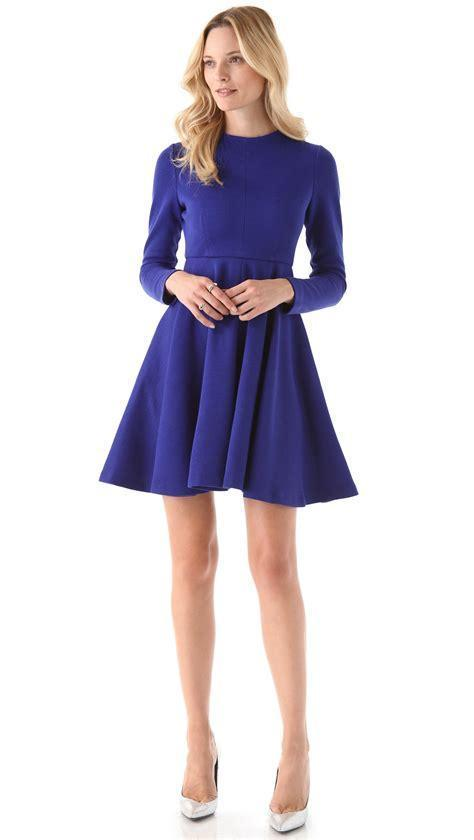dress: (95, 132, 360, 508)
